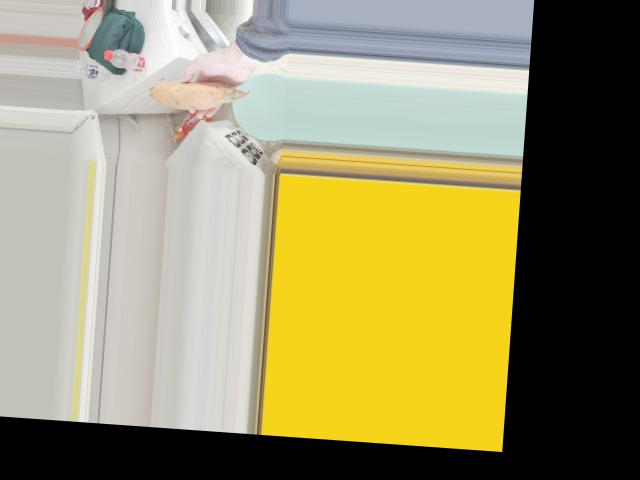sweet_potato: (140, 72, 229, 111)
